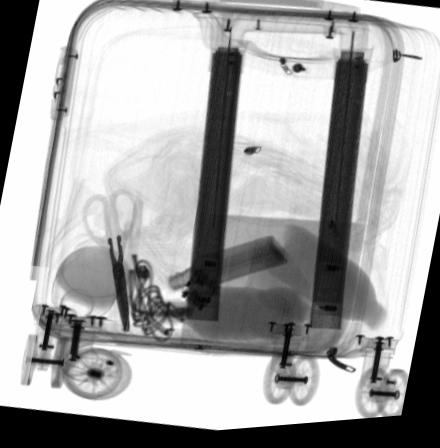Scissors: (81, 190, 140, 334)
